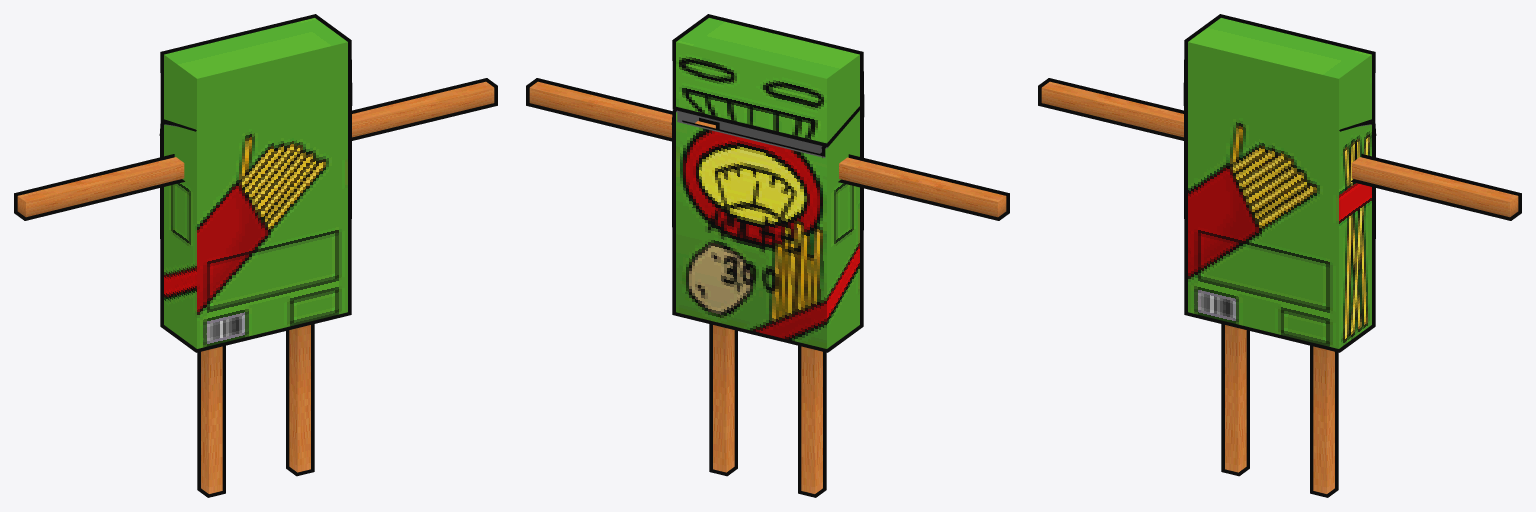
File: ps2_save-icons_zatchbellmamodofury.glb
The picture shows the model from 3 angles, left to right: view 1: azimuth 30°, elevation 25°; view 2: azimuth 150°, elevation 25°; view 3: azimuth 330°, elevation 25°; orthographic projection.
Parts seen in each view (by area): view 1: icon0.ico; view 2: icon0.ico; view 3: icon0.ico.
Boxes of the visible parts, x1,y1,x2,y2 form: icon0.ico: (14, 14, 497, 497); icon0.ico: (526, 14, 1009, 497); icon0.ico: (1038, 14, 1521, 497).
Bounding box in the file's own units: 4.39 × 3.85 × 0.5933.
1 material, 1 textured.
